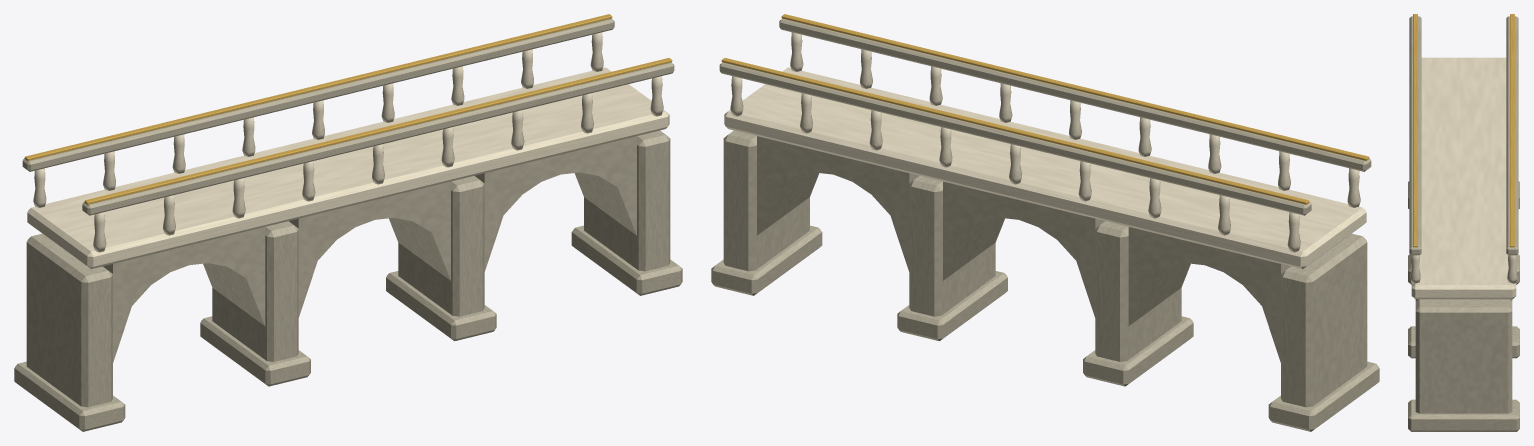
The model's file is royal-bridge-low.glb.
3 views of the same model, side by side, from view 1: azimuth 30°, elevation 25°; view 2: azimuth 150°, elevation 25°; view 3: azimuth 270°, elevation 25° (orthographic). The views are drawn at different scales.
Visible parts, largest first — view 1: royal-bridge; view 2: royal-bridge; view 3: royal-bridge.
Boxes of the visible parts, left/top/right/bottom form: royal-bridge: left=14, top=14, right=682, bottom=431; royal-bridge: left=711, top=14, right=1379, bottom=431; royal-bridge: left=1408, top=14, right=1519, bottom=431.
Bounding box in the file's own units: 6.06 × 2.18 × 1.2.
3 materials, 3 textured.
